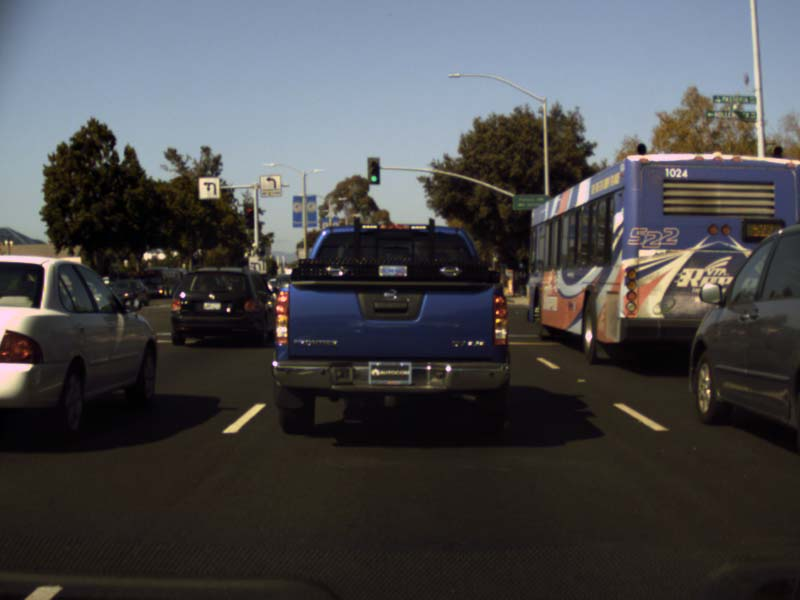Green: (367, 157, 379, 184)
Red: (244, 204, 254, 228)
